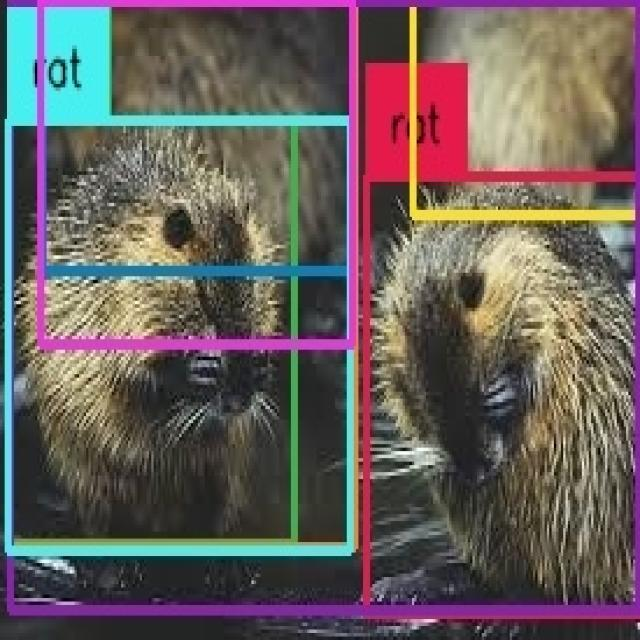rat: (10, 2, 639, 610), (10, 2, 355, 547), (9, 120, 352, 550), (365, 176, 640, 614), (10, 121, 294, 544), (40, 0, 352, 343), (41, 0, 351, 269), (414, 0, 639, 213)
